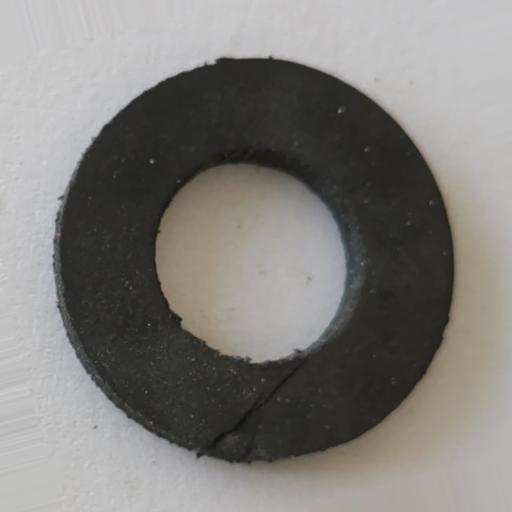defect: (201, 352, 311, 462)
